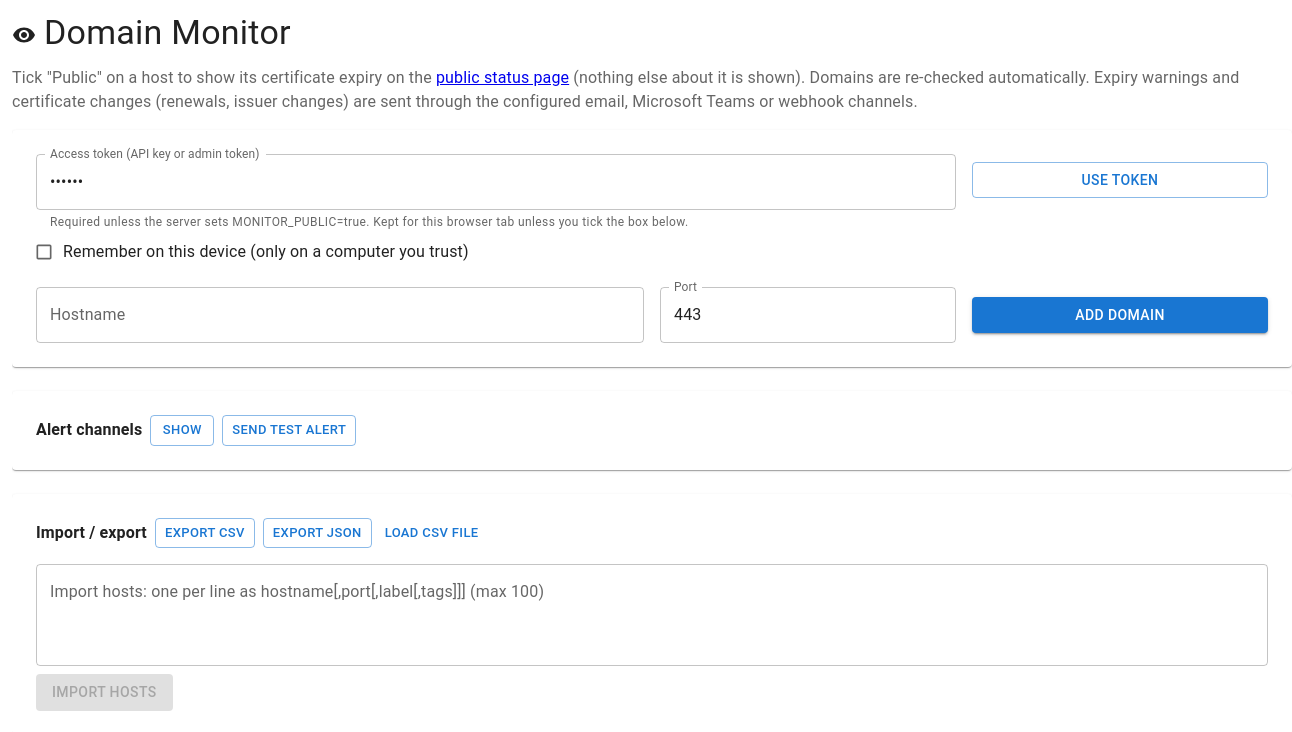
Test: sends a test alert and reports the channels used
This screenshot has width=1292, height=732.
What coordinates should you click on to do the following:
click the button "Send test alert"
I would click on:
 (289, 430)
Its box is [222,415,356,446].
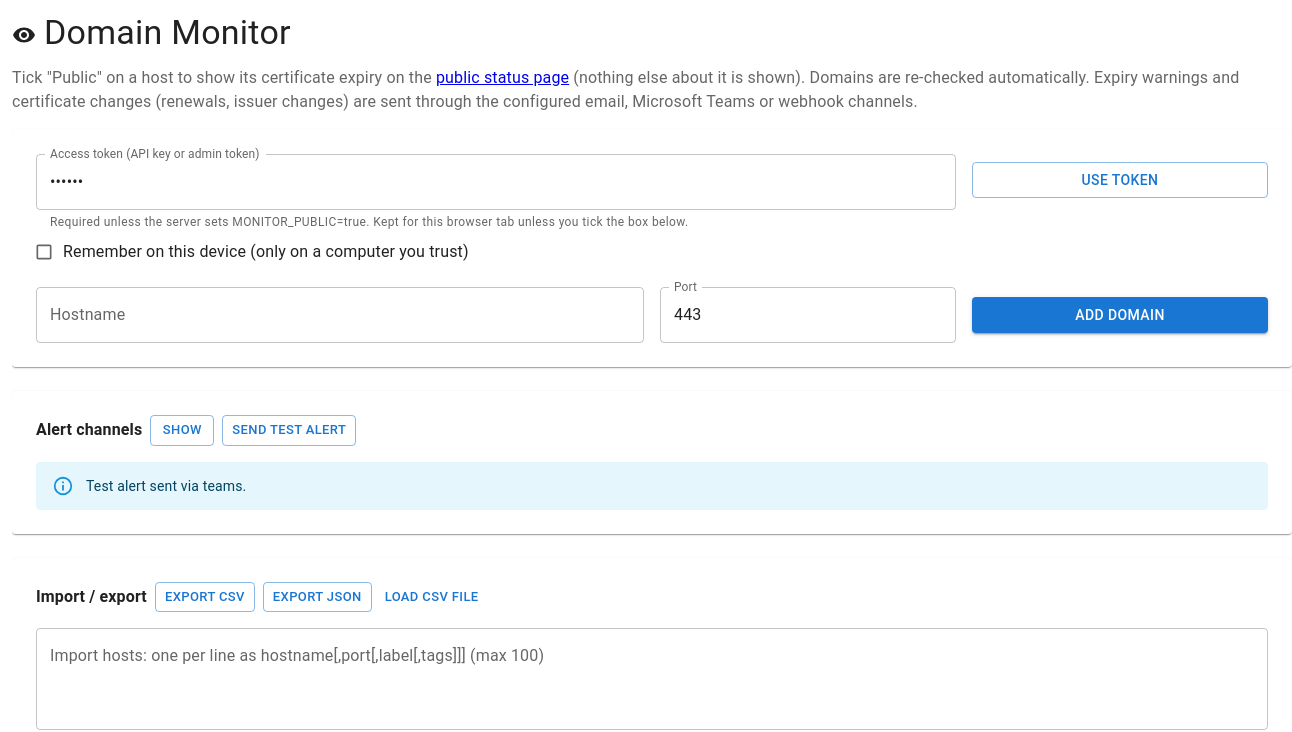
Expected: the text "Test alert sent via teams." is shown, [86,478,246,494]
